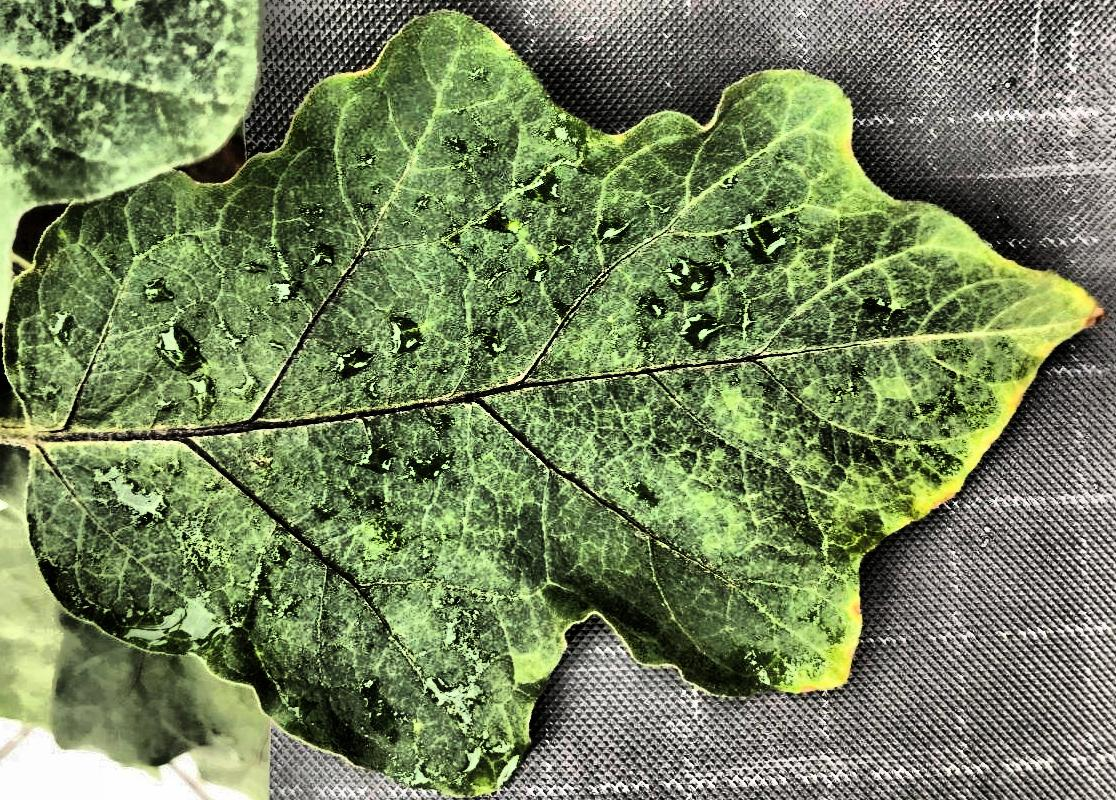Non-critical Stress: (1, 0, 1116, 800)
